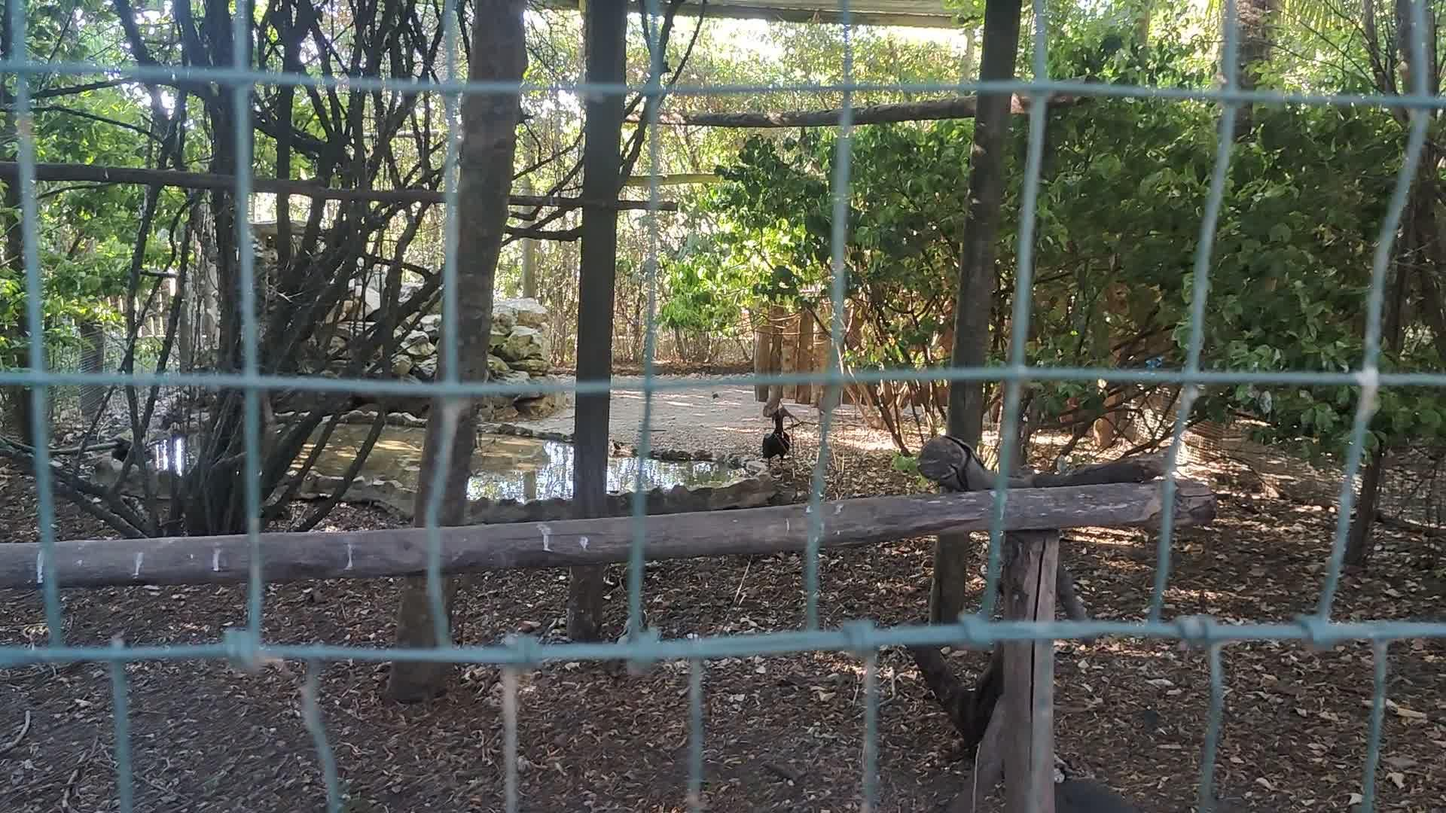apple: (763, 407, 801, 469)
